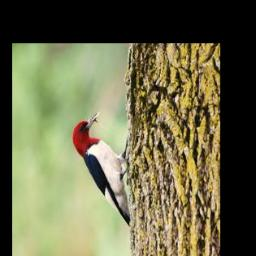Woodpecker: (72, 112, 129, 225)
